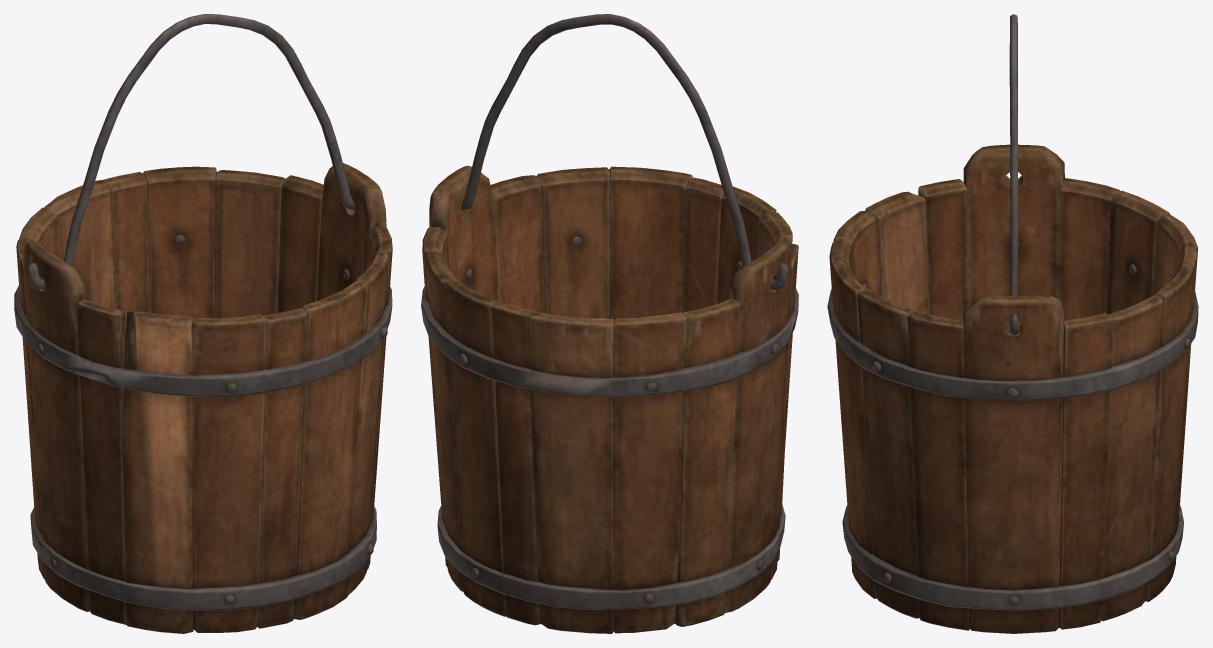
The model's file is wooden_bucket_01.glb.
3 views of the same model, side by side, from view 1: azimuth 30°, elevation 25°; view 2: azimuth 150°, elevation 25°; view 3: azimuth 270°, elevation 25° (orthographic).
Visible parts, largest first — view 1: wooden_bucket_01, wooden_bucket_01_handle; view 2: wooden_bucket_01, wooden_bucket_01_handle; view 3: wooden_bucket_01, wooden_bucket_01_handle.
Boxes of the visible parts, x1,y1,x2,y2 form: wooden_bucket_01: (14, 163, 392, 633); wooden_bucket_01_handle: (28, 14, 354, 289); wooden_bucket_01: (421, 165, 798, 633); wooden_bucket_01_handle: (438, 14, 787, 290); wooden_bucket_01: (827, 144, 1198, 633); wooden_bucket_01_handle: (1009, 14, 1018, 335).
Bounding box in the file's own units: 0.367 × 0.5499 × 0.3422.
1 material, 1 textured.
